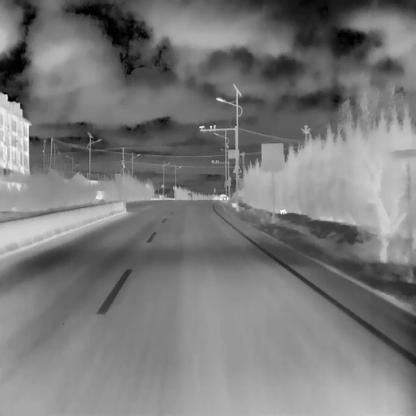car: (219, 192, 228, 200)
